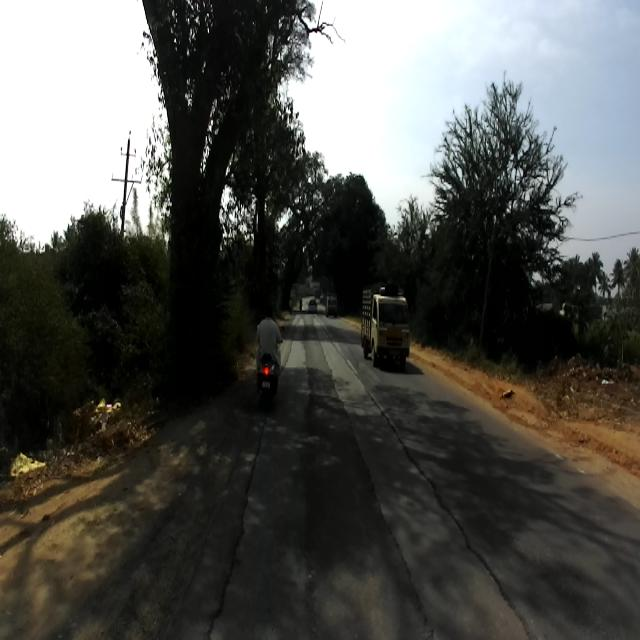car ahead at: (358, 280, 409, 371)
tree ahead at: (130, 2, 322, 418)
